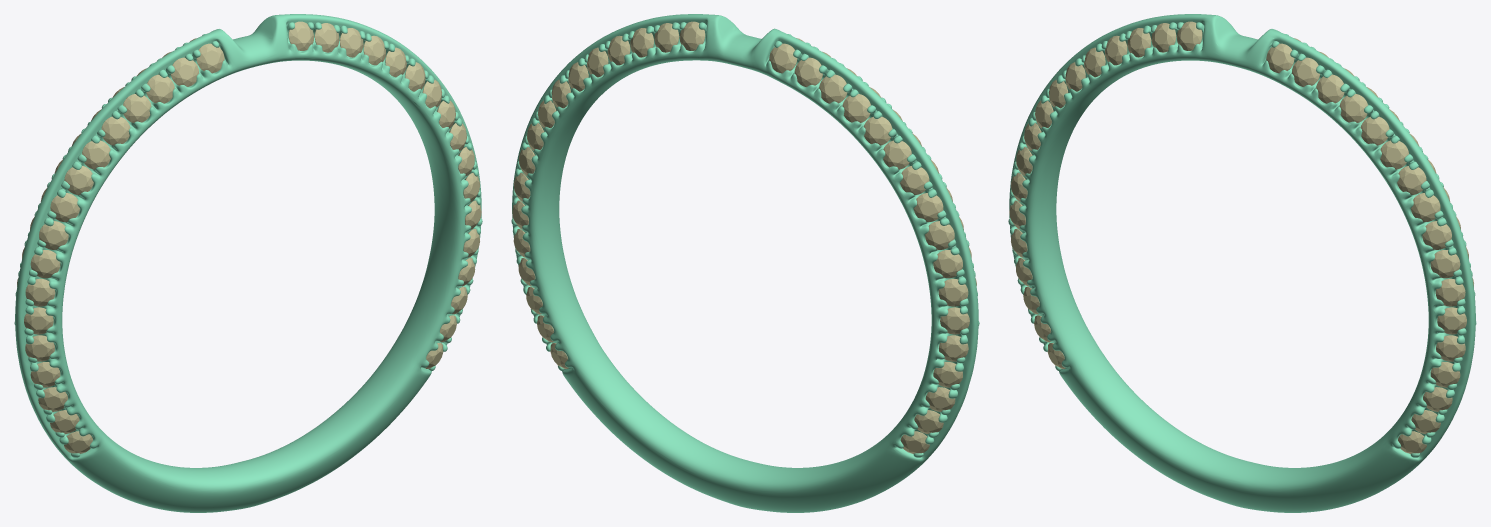
3 renders of one model, left to right at view 1: azimuth 30°, elevation 25°; view 2: azimuth 150°, elevation 25°; view 3: azimuth 330°, elevation 25°, orthographic.
Visible parts, largest first — view 1: Metal02, Diamond_Gem.012, Diamond_Gem.011, Diamond_Gem.013, Diamond_Gem.009, Diamond_Gem.015, Diamond_Gem.014, Diamond_Gem.010, Diamond_Gem.007, Diamond_Gem.016, Diamond_Gem.008, Diamond_Gem.006 (+7 smaller); view 2: Metal02, Diamond_Gem.021, Diamond_Gem.020, Diamond_Gem.018, Diamond_Gem.022, Diamond_Gem.019, Diamond_Gem.023, Diamond_Gem.024, Diamond_Gem.017, Diamond_Gem.025, Diamond_Gem.026, Diamond_Gem.027 (+7 smaller); view 3: Metal02, Diamond_Gem.055, Diamond_Gem.056, Diamond_Gem.054, Diamond_Gem.058, Diamond_Gem.052, Diamond_Gem.053, Diamond_Gem.057, Diamond_Gem.051, Diamond_Gem.060, Diamond_Gem.059, Diamond_Gem.061 (+7 smaller).
Boxes of the visible parts, x1,y1,x2,y2 form: Metal02: (14, 14, 482, 512); Diamond_Gem.012: (101, 116, 130, 145); Diamond_Gem.011: (82, 140, 110, 169); Diamond_Gem.013: (123, 94, 151, 122); Diamond_Gem.009: (50, 193, 79, 221); Diamond_Gem.015: (170, 57, 199, 86); Diamond_Gem.014: (146, 74, 174, 103); Diamond_Gem.010: (64, 166, 93, 194); Diamond_Gem.007: (30, 250, 60, 278); Diamond_Gem.016: (196, 43, 224, 73); Diamond_Gem.008: (39, 221, 68, 249); Diamond_Gem.006: (25, 278, 55, 306); Metal02: (511, 14, 979, 512); Diamond_Gem.021: (863, 116, 892, 145); Diamond_Gem.020: (842, 94, 870, 122); Diamond_Gem.018: (794, 57, 822, 86); Diamond_Gem.022: (883, 140, 911, 169); Diamond_Gem.019: (819, 74, 847, 103); Diamond_Gem.023: (900, 166, 929, 194); Diamond_Gem.024: (913, 193, 943, 222); Diamond_Gem.017: (769, 43, 797, 73); Diamond_Gem.025: (925, 221, 954, 249); Diamond_Gem.026: (933, 250, 962, 278); Diamond_Gem.027: (938, 278, 968, 306); Metal02: (1008, 14, 1476, 512); Diamond_Gem.055: (1360, 116, 1389, 145); Diamond_Gem.056: (1380, 140, 1408, 169); Diamond_Gem.054: (1339, 94, 1367, 122); Diamond_Gem.058: (1411, 193, 1440, 221); Diamond_Gem.052: (1292, 57, 1320, 86); Diamond_Gem.053: (1316, 74, 1344, 103); Diamond_Gem.057: (1397, 166, 1426, 194); Diamond_Gem.051: (1266, 43, 1294, 73); Diamond_Gem.060: (1430, 250, 1460, 278); Diamond_Gem.059: (1422, 221, 1451, 249); Diamond_Gem.061: (1435, 278, 1465, 306).
Size of the model in its own units: 20.91 by 20.79 by 1.98.
